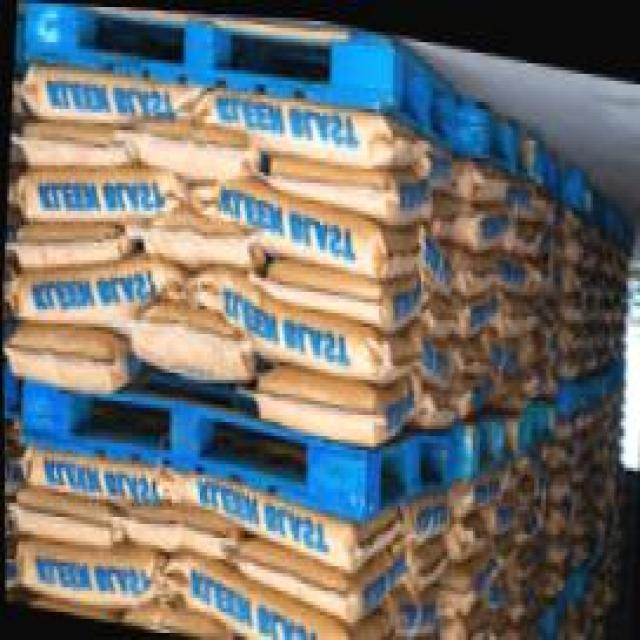gunny_bag: (207, 262, 411, 375), (212, 79, 384, 155), (229, 176, 377, 264), (185, 558, 320, 640), (269, 151, 433, 214), (15, 253, 169, 317), (243, 526, 354, 611), (264, 366, 374, 435), (25, 541, 151, 601), (29, 442, 159, 498), (29, 65, 180, 113), (262, 485, 353, 564), (271, 252, 387, 313), (142, 302, 238, 368), (25, 167, 165, 212), (138, 114, 242, 173), (13, 326, 109, 389), (130, 496, 227, 556), (147, 216, 244, 260), (23, 217, 124, 257), (440, 542, 501, 600), (453, 155, 511, 195), (461, 202, 514, 244), (410, 536, 450, 582), (419, 295, 460, 337), (462, 282, 497, 325), (464, 249, 503, 286), (463, 466, 503, 502), (454, 602, 490, 640), (504, 294, 540, 329), (424, 384, 456, 423), (417, 494, 449, 532), (462, 510, 490, 552), (457, 335, 488, 368), (522, 497, 543, 533)
